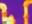Hotspot: (23, 0, 31, 23), (2, 14, 16, 23), (0, 2, 7, 16)
